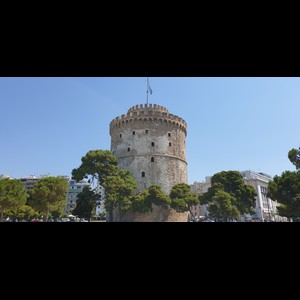White Tower: (106, 78, 190, 222)
